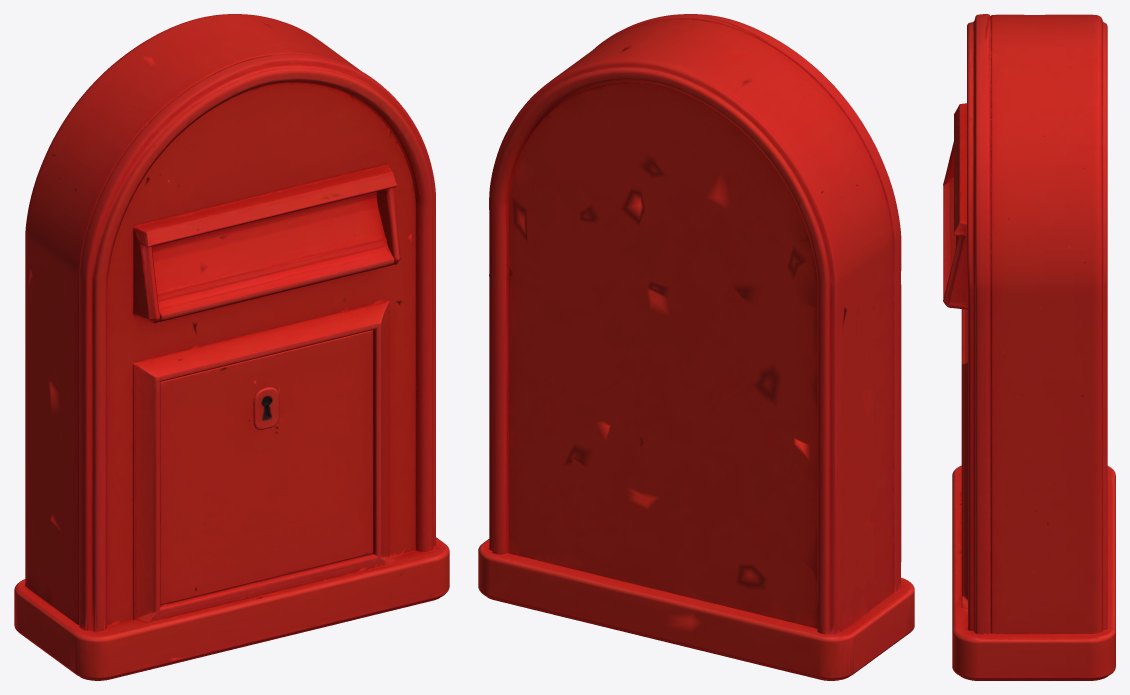
Rendered from letter-cabinet.glb.
3 views of the same model, side by side, from view 1: azimuth 30°, elevation 25°; view 2: azimuth 150°, elevation 25°; view 3: azimuth 270°, elevation 25° (orthographic).
Parts seen in each view (by area): view 1: node_0; view 2: node_0; view 3: node_0.
Part boxes in pixels (bbox=[...]): node_0: bbox=[14, 14, 449, 680]; node_0: bbox=[478, 14, 914, 680]; node_0: bbox=[943, 14, 1115, 680].
Size of the model in its own units: 0.6721 by 0.9854 by 0.2742.
1 material, 1 textured.
